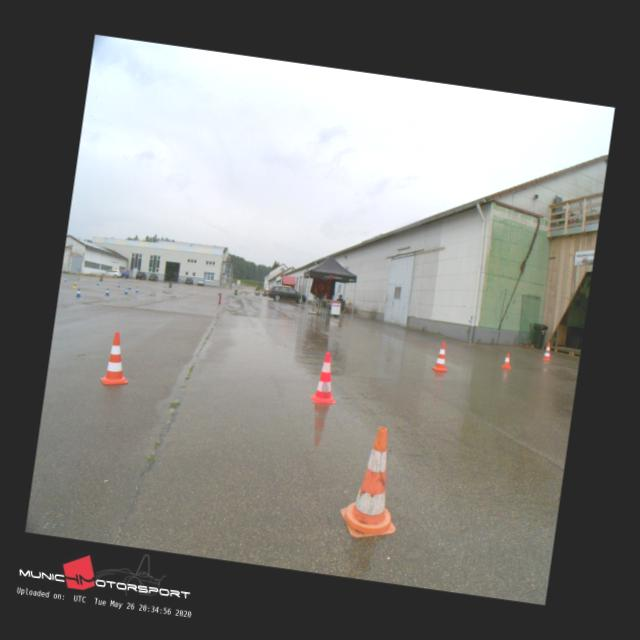blue_cone: (76, 288, 82, 297), (105, 288, 111, 296), (136, 287, 140, 293), (128, 284, 132, 290), (125, 288, 128, 295), (117, 282, 120, 288)
large_orange_cone: (337, 422, 410, 542), (100, 331, 134, 386), (310, 351, 341, 405), (432, 341, 451, 372), (542, 342, 553, 361)
orange_cone: (502, 352, 512, 368)
yellow_cone: (74, 282, 78, 289)
